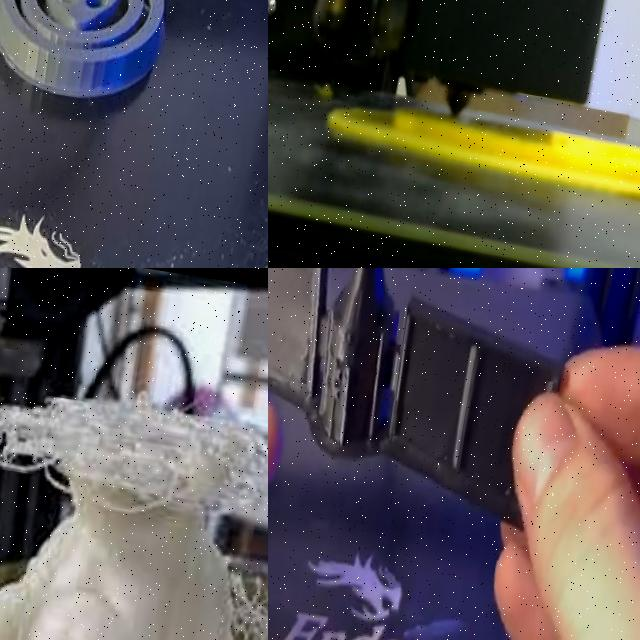spaghetti: (0, 323, 268, 595)
